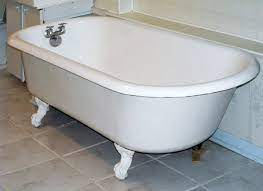bathub: (11, 10, 263, 180)
